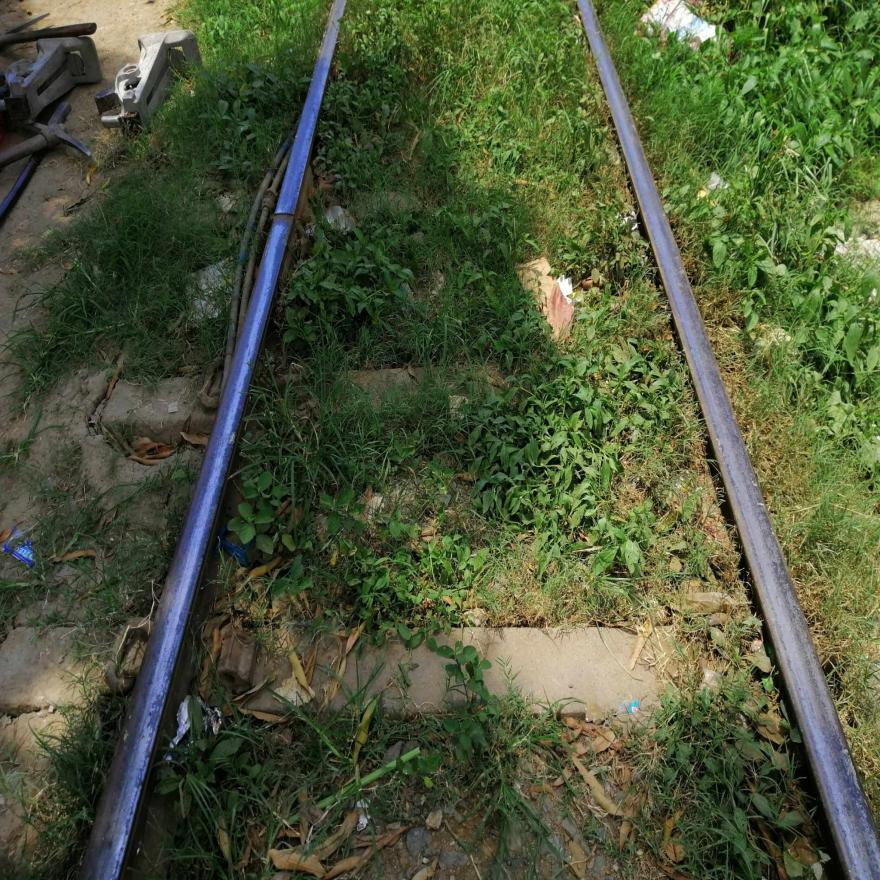railway-gap: (239, 167, 320, 264)
